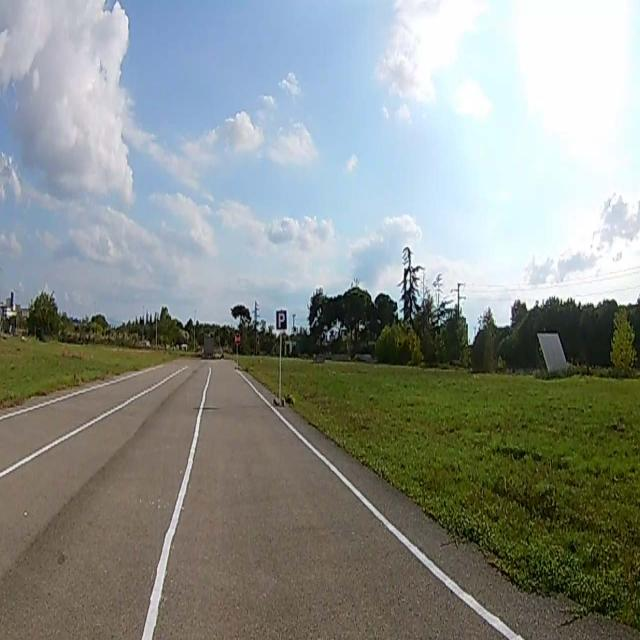park: (277, 309, 287, 332)
